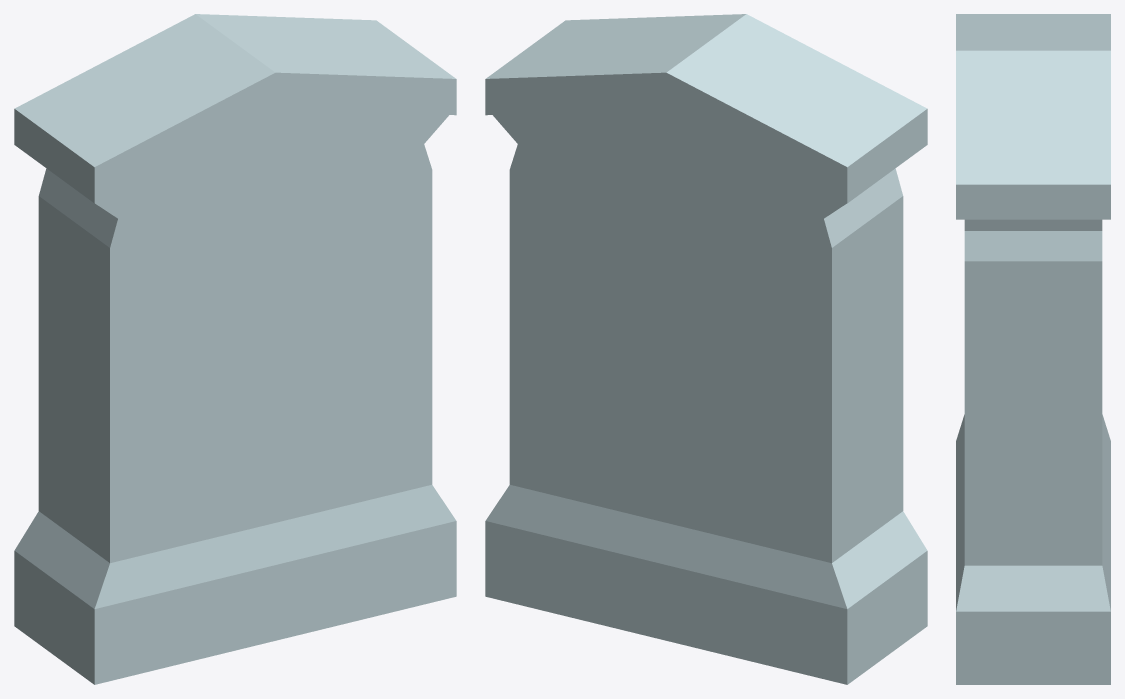
The model's file is gravestoneRoof.glb.
The picture shows the model from 3 angles, left to right: view 1: azimuth 30°, elevation 25°; view 2: azimuth 150°, elevation 25°; view 3: azimuth 270°, elevation 25°; orthographic projection. The views are drawn at different scales.
Parts seen in each view (by area): view 1: gravestoneRoof; view 2: gravestoneRoof; view 3: gravestoneRoof.
Boxes of the visible parts, x1=… form: gravestoneRoof: x1=14, y1=14, x2=456, y2=684; gravestoneRoof: x1=485, y1=14, x2=927, y2=684; gravestoneRoof: x1=956, y1=14, x2=1110, y2=684.
Bounding box in the file's own units: 0.39 × 0.585 × 0.1495.
